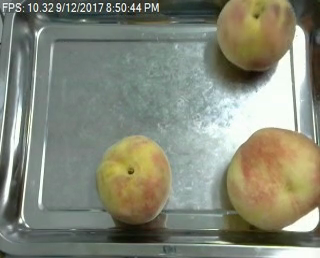Peach: (224, 126, 320, 233), (96, 134, 171, 225), (215, 0, 296, 70)
